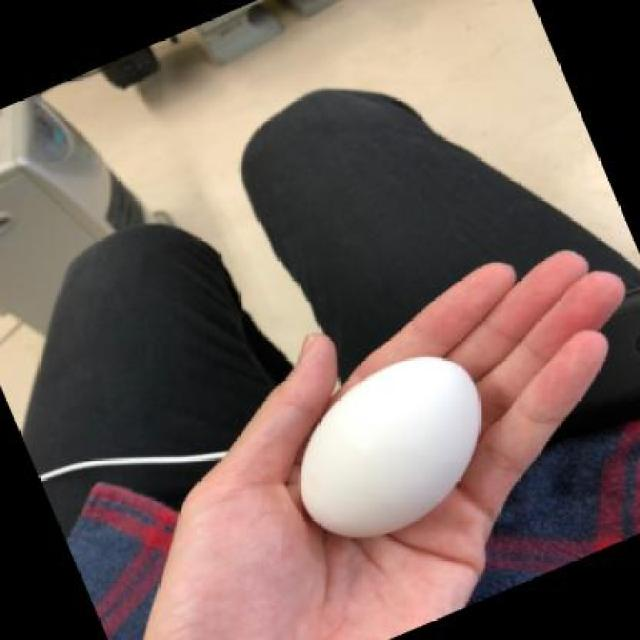egg: (301, 352, 484, 540)
